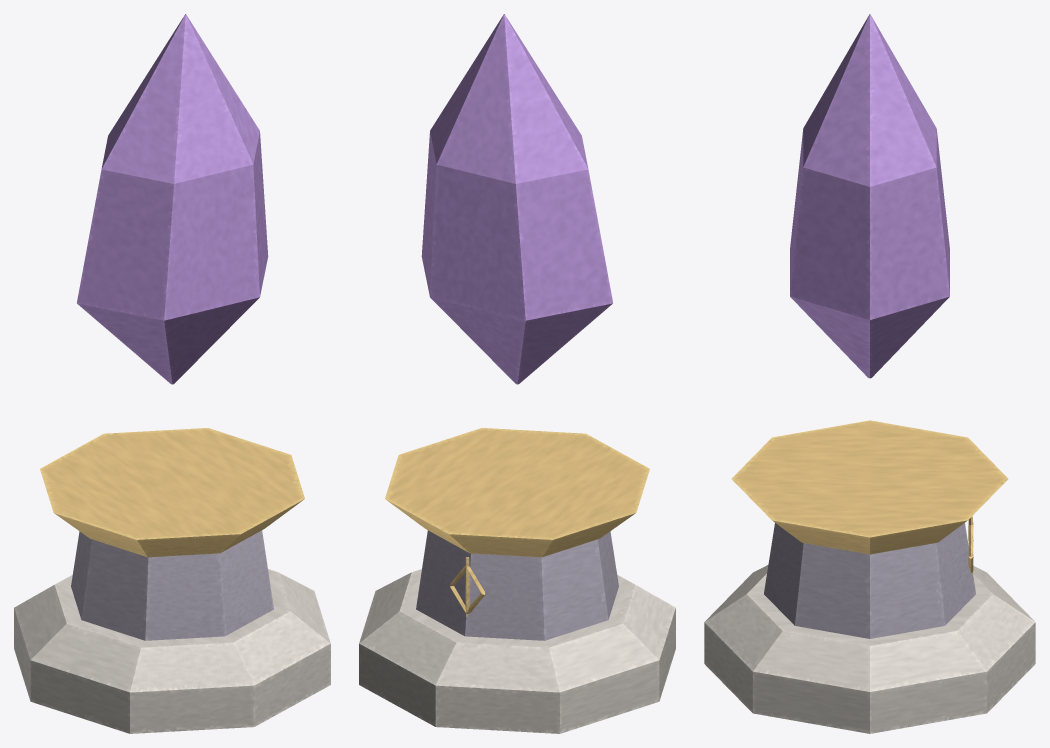
Rendered from arcane_core.glb.
3 views of the same model, side by side, from view 1: azimuth 30°, elevation 25°; view 2: azimuth 150°, elevation 25°; view 3: azimuth 270°, elevation 25° (orthographic).
Visible parts, largest first — view 1: Crystal, PedestalFoot, PedestalCrown, Pedestal; view 2: Crystal, PedestalFoot, PedestalCrown, Pedestal; view 3: Crystal, PedestalFoot, PedestalCrown, Pedestal.
Part boxes in pixels (x1,y1,x2,y2): Crystal: (77, 14, 268, 384); PedestalFoot: (14, 569, 330, 733); PedestalCrown: (40, 428, 304, 557); Pedestal: (71, 530, 273, 640); Crystal: (421, 14, 612, 384); PedestalFoot: (359, 569, 675, 733); PedestalCrown: (385, 428, 649, 557); Pedestal: (416, 530, 618, 640); Crystal: (790, 14, 949, 378); PedestalFoot: (704, 565, 1035, 733); PedestalCrown: (731, 420, 1008, 554); Pedestal: (764, 523, 975, 638).
Size of the model in its own units: 0.86 by 1.88 by 0.86.
Materials: 4 (4 with a texture image).
